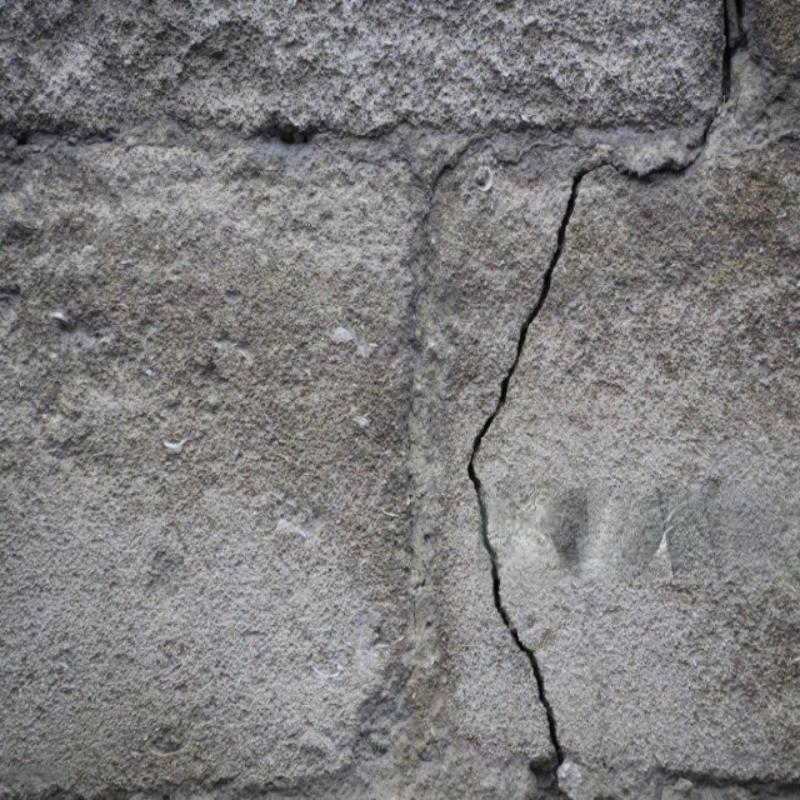pothole: (461, 2, 742, 798)
